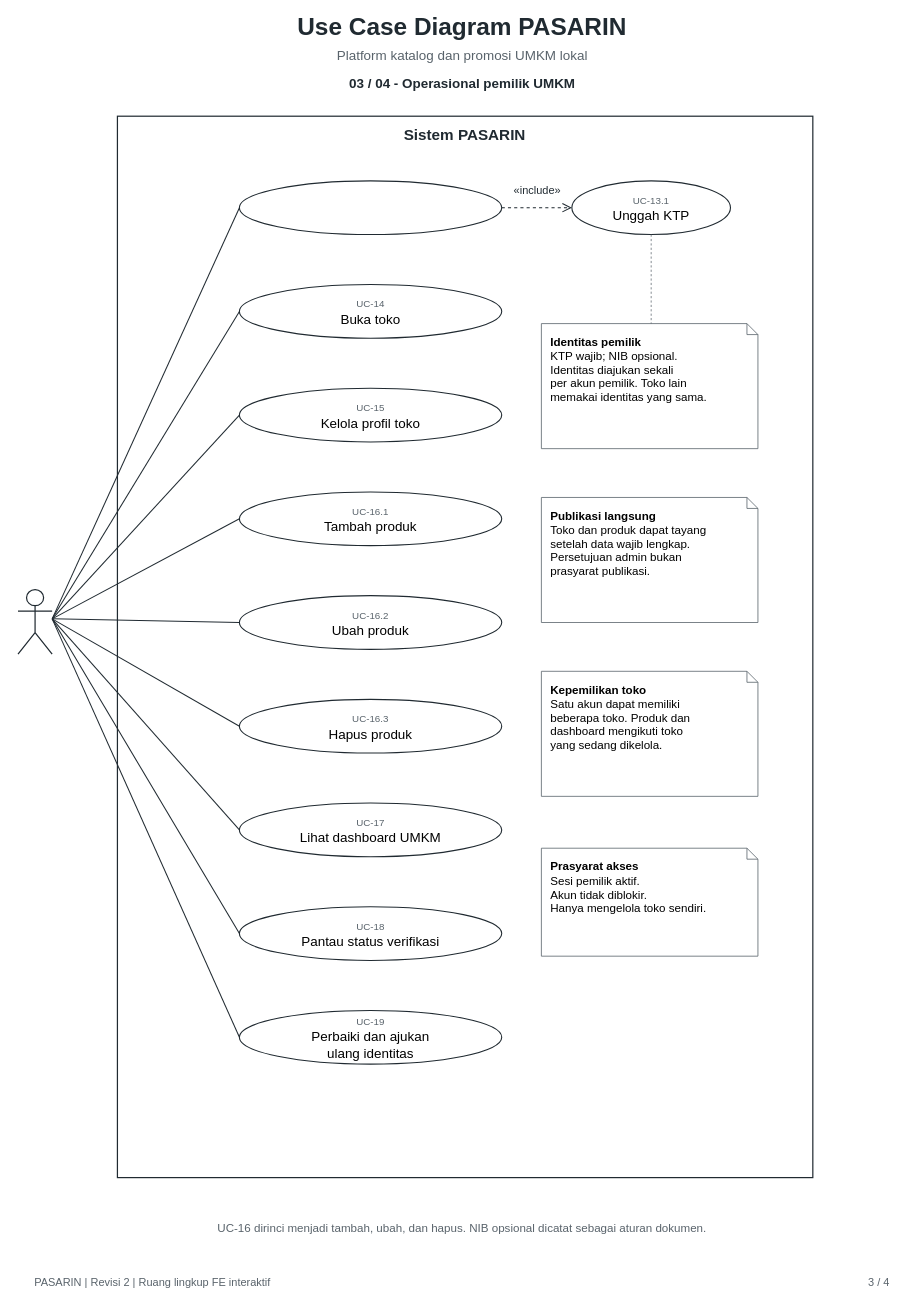
The diagram is 902 pixels wide and 1302 high, and some of its shapes have lost their labels. The shapes that lost their labels are listed below. From the top down, each one's box as (x1, y1, x2, y2) in pixels, then its label:
(239, 180, 502, 235): UC-13 Daftarkan identitas pemilik
(17, 589, 52, 655): Pemilik UMKM
